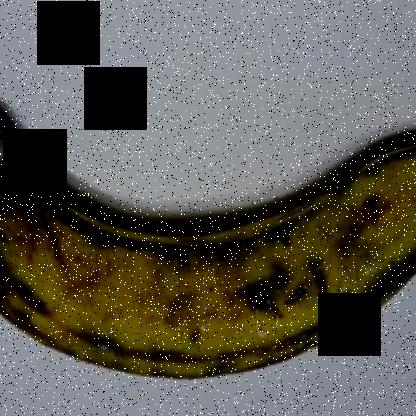overripe: (0, 68, 415, 397)
rotten: (0, 96, 131, 286)
